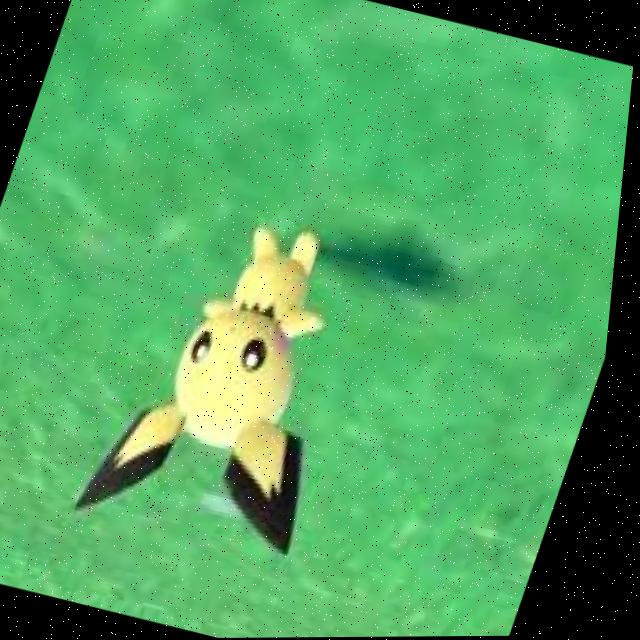pichu: (74, 213, 405, 567)
